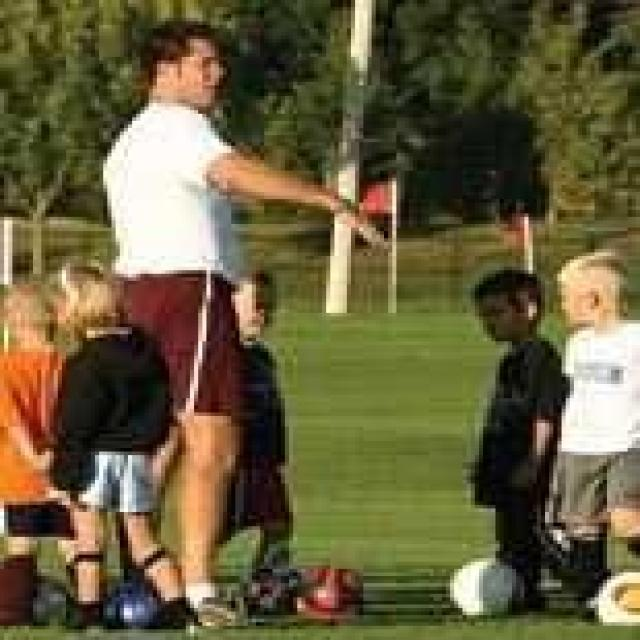ball: (451, 558, 519, 616), (297, 562, 363, 618), (108, 579, 163, 631), (244, 568, 299, 616), (598, 570, 640, 627)
